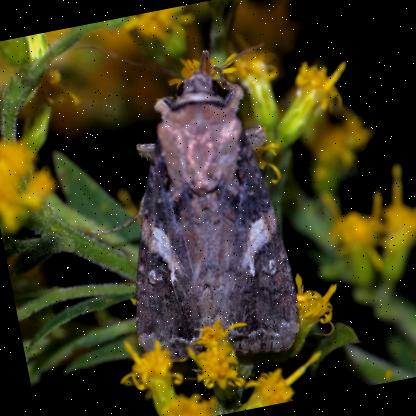Fall Armyworm Moth: (48, 6, 327, 388)
